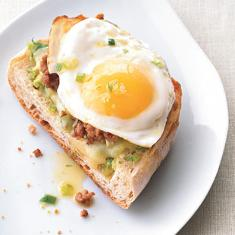fried egg: (49, 22, 167, 130)
slice of bread: (57, 135, 163, 206)
